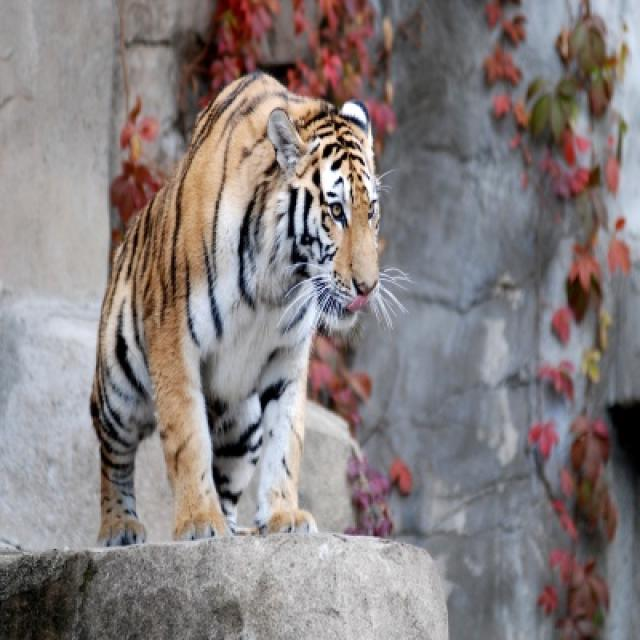Tiger: (89, 67, 385, 542)
